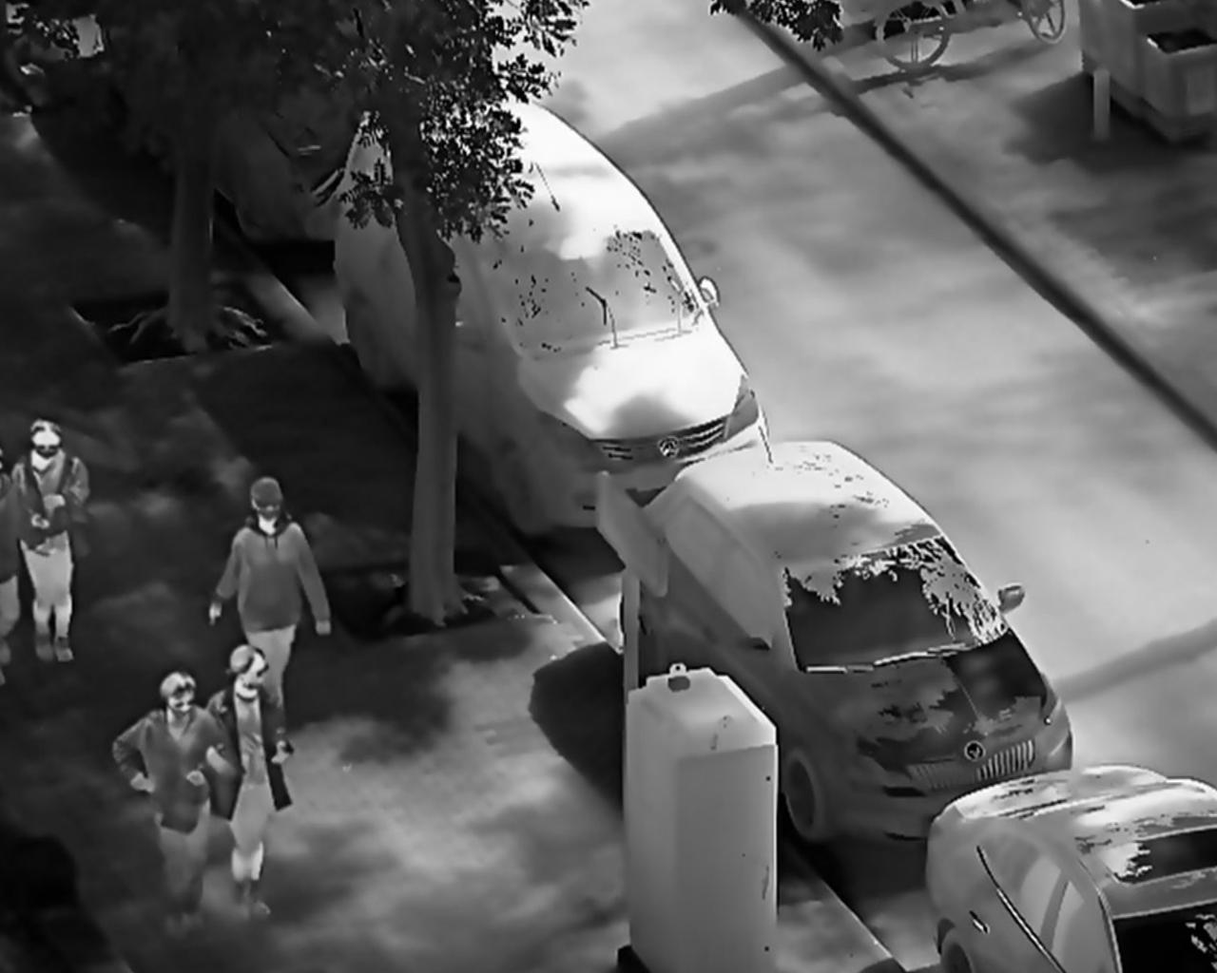person: (108, 669, 237, 943), (204, 473, 334, 708), (205, 642, 296, 920), (9, 415, 93, 666)
